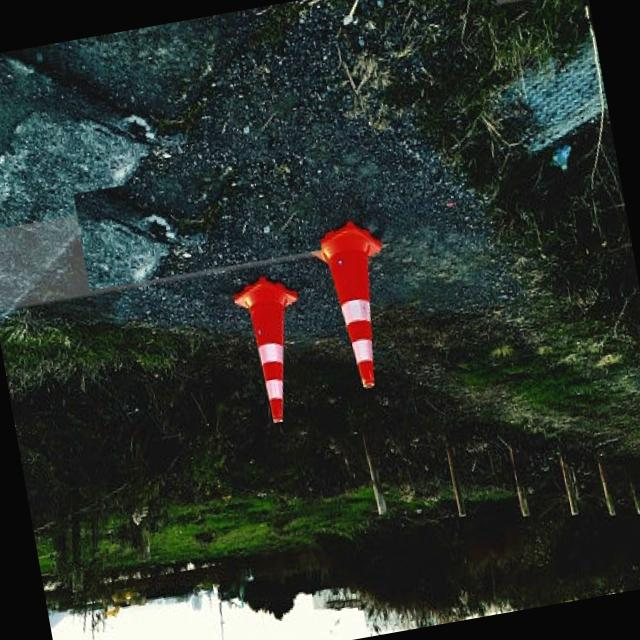cone: (304, 208, 434, 412), (218, 264, 328, 444)
